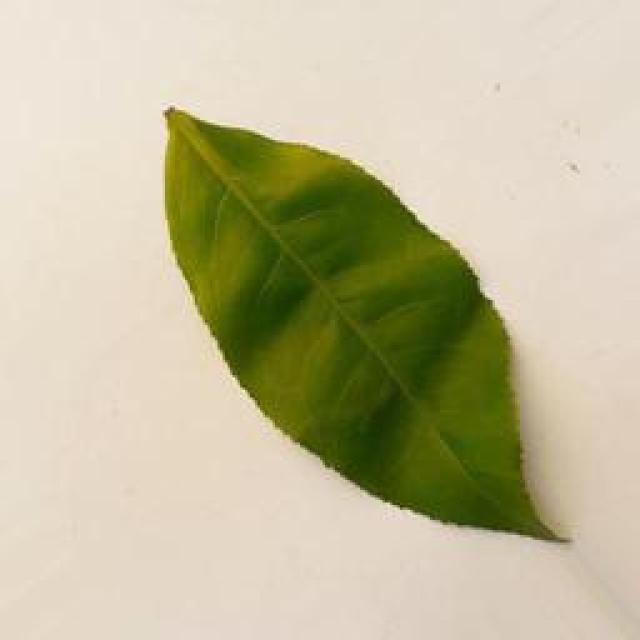Healthy: (149, 91, 575, 559)
